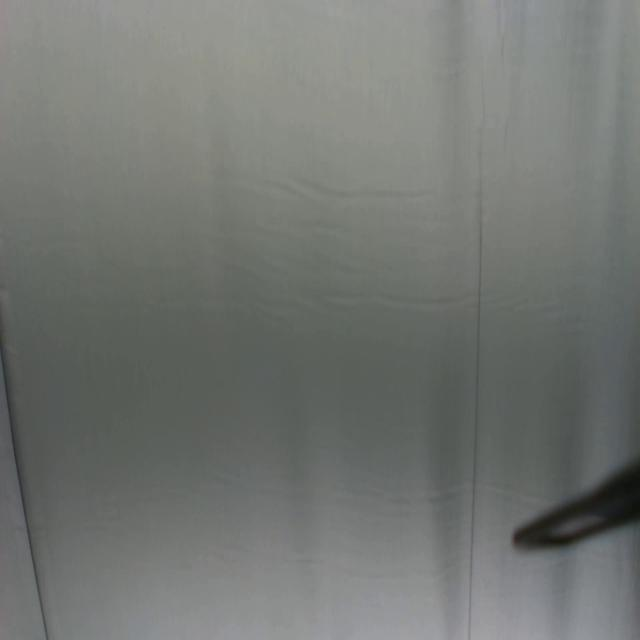crease: (0, 340, 51, 640), (465, 180, 486, 640)
